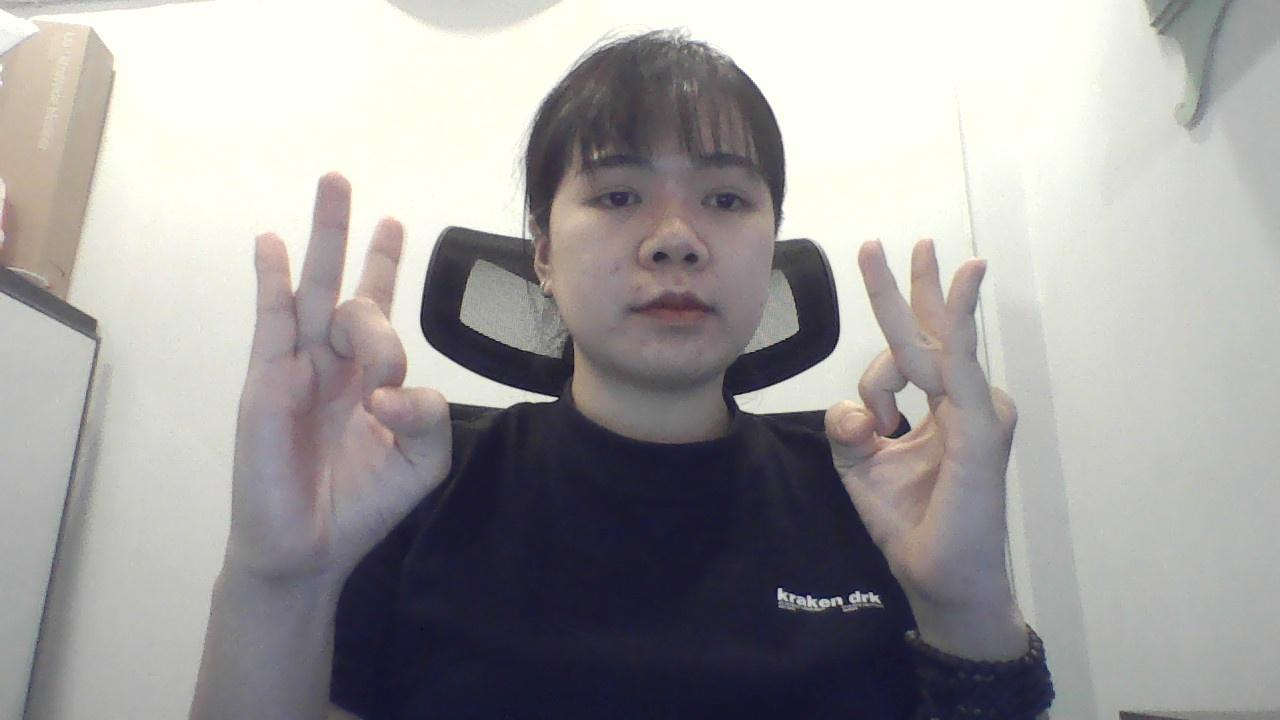H: (222, 156, 459, 608), (817, 217, 1020, 610)
